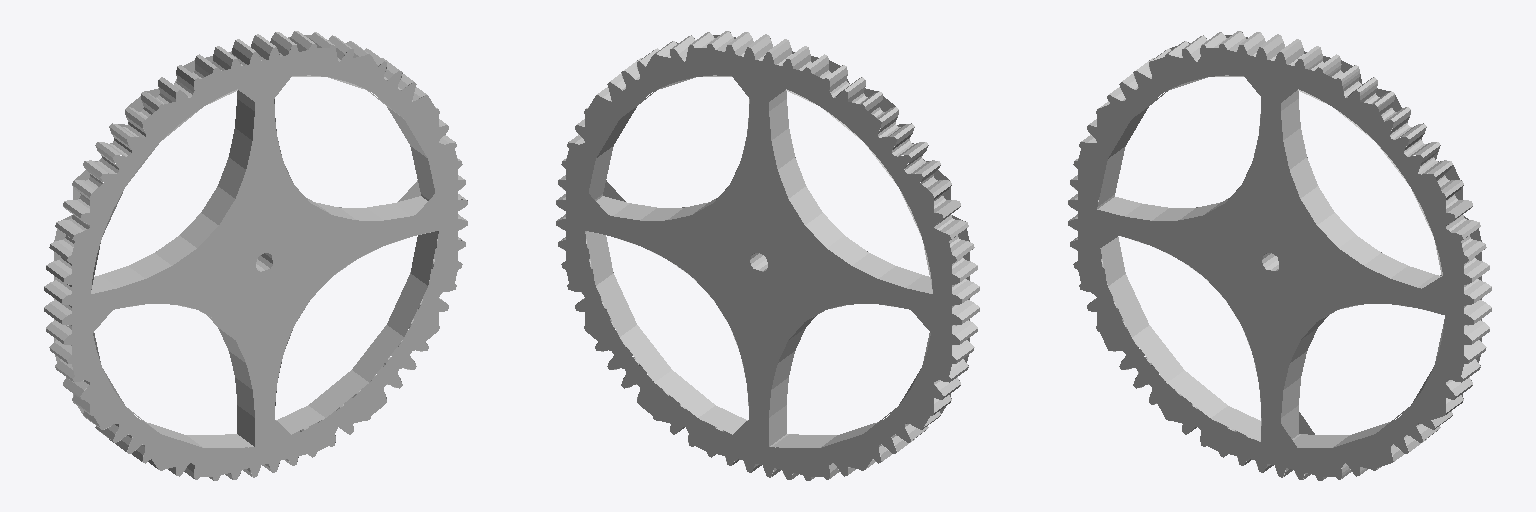
The model's file is sixtyfour.obj.
3 renders of one model, left to right at view 1: azimuth 30°, elevation 25°; view 2: azimuth 150°, elevation 25°; view 3: azimuth 330°, elevation 25°, orthographic.
Size of the model in its own units: 9.48 by 9.48 by 0.7188.